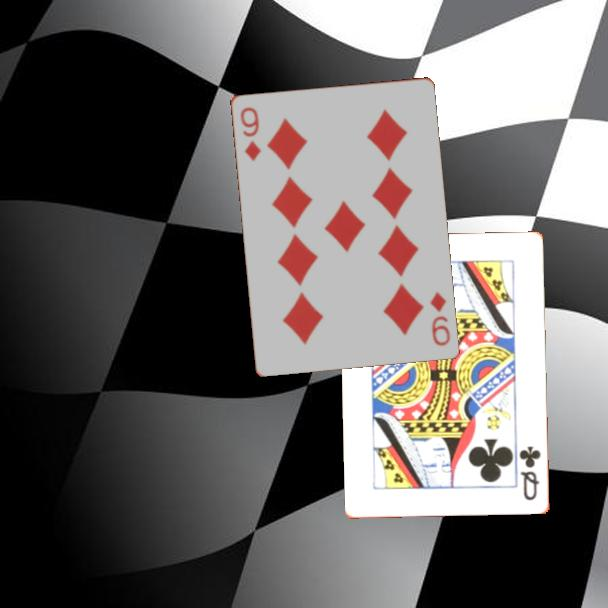c12: (516, 443, 544, 503)
d09: (236, 103, 264, 163), (427, 288, 453, 349)
